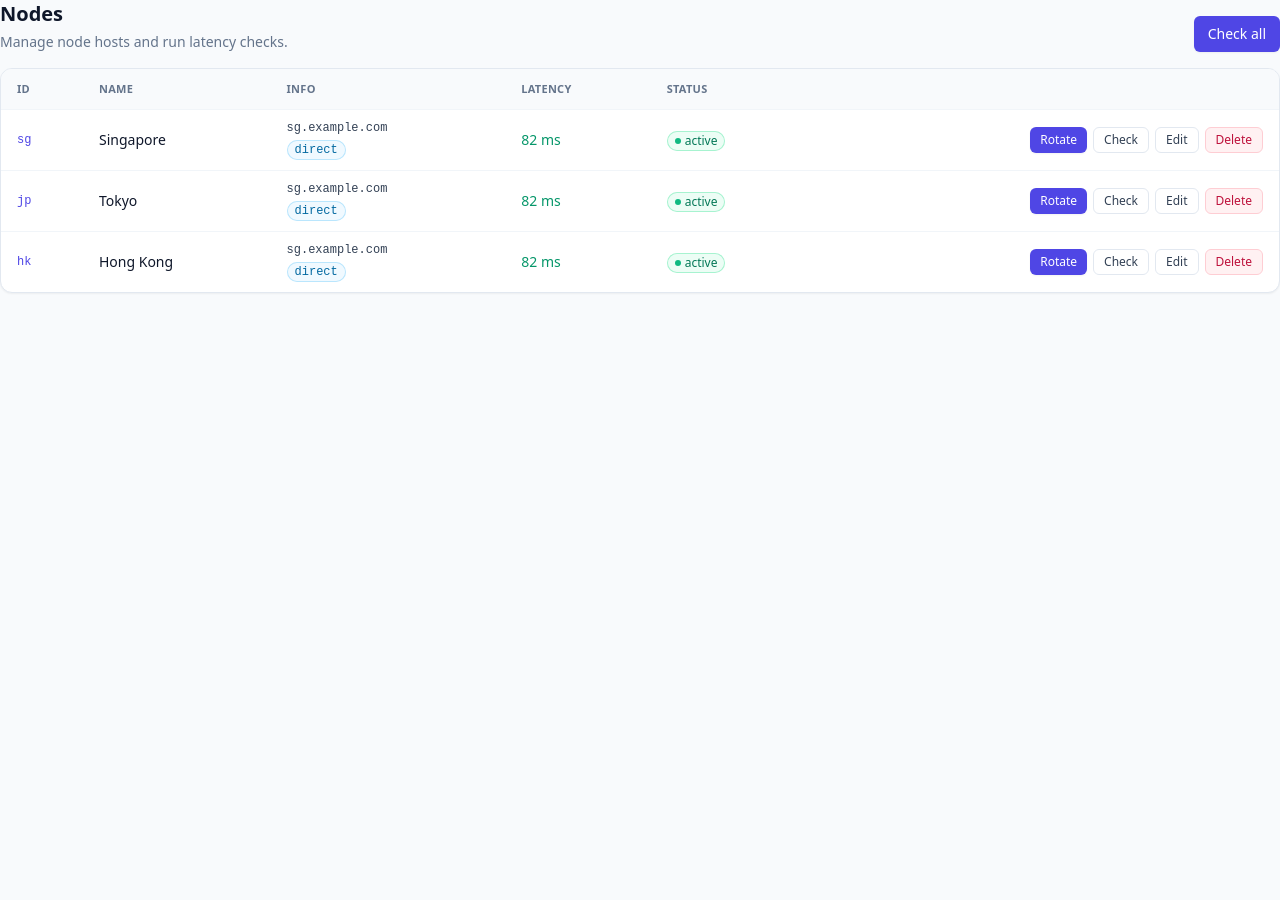
Test: check-all results follow node id, not array position, when a node is deleted mid-batch (M-R2)
Expected: the text "Singapore" is shown, [83,110,271,170]
What coordinates should you click on to do the following:
click the button "Check all"
I would click on:
 (1237, 34)
Its box is [1194,16,1279,52].
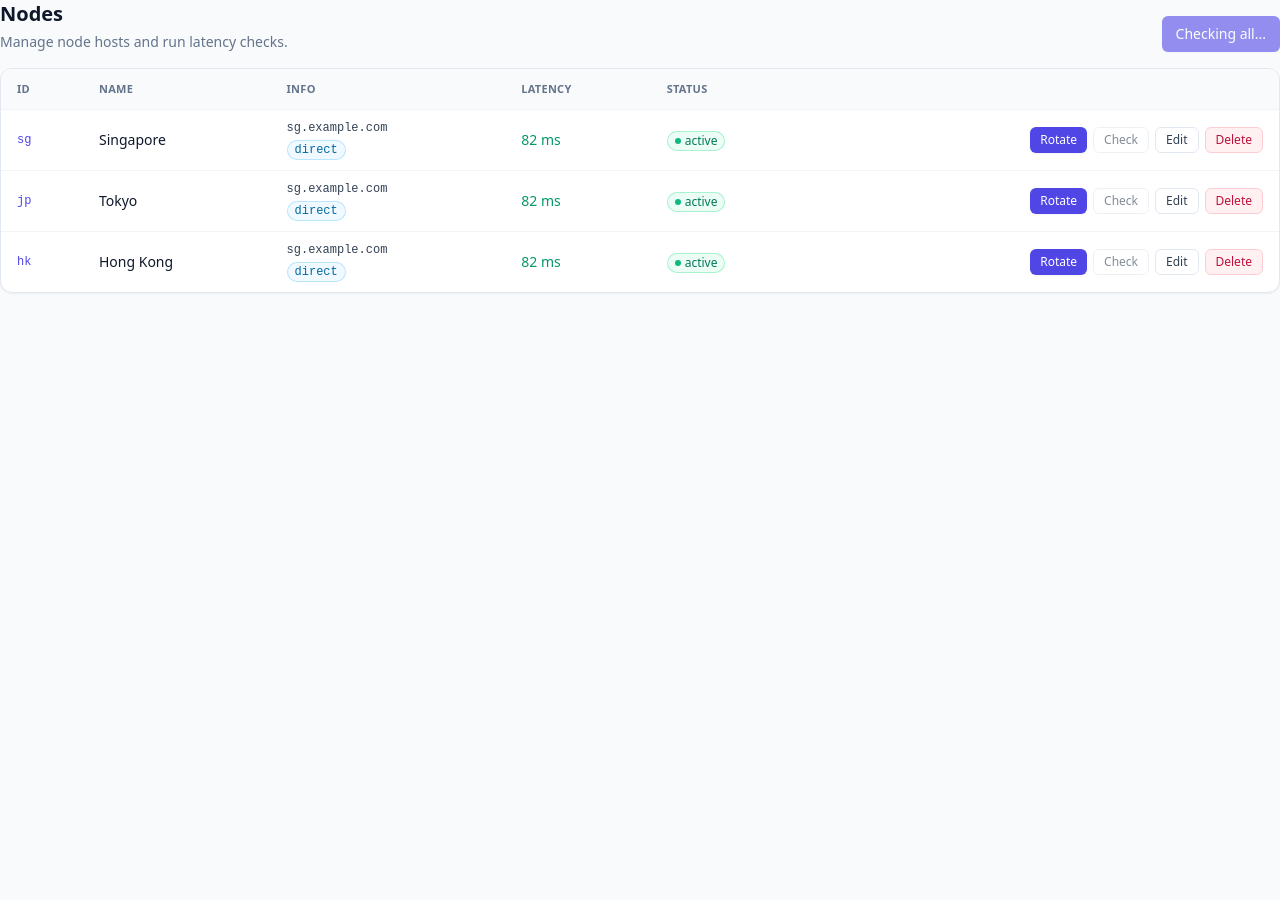
What coordinates should you click on to do the following:
click the button "Delete" in the row of "Singapore"
I would click on:
 (1234, 140)
Its box is [1204,127,1263,153].
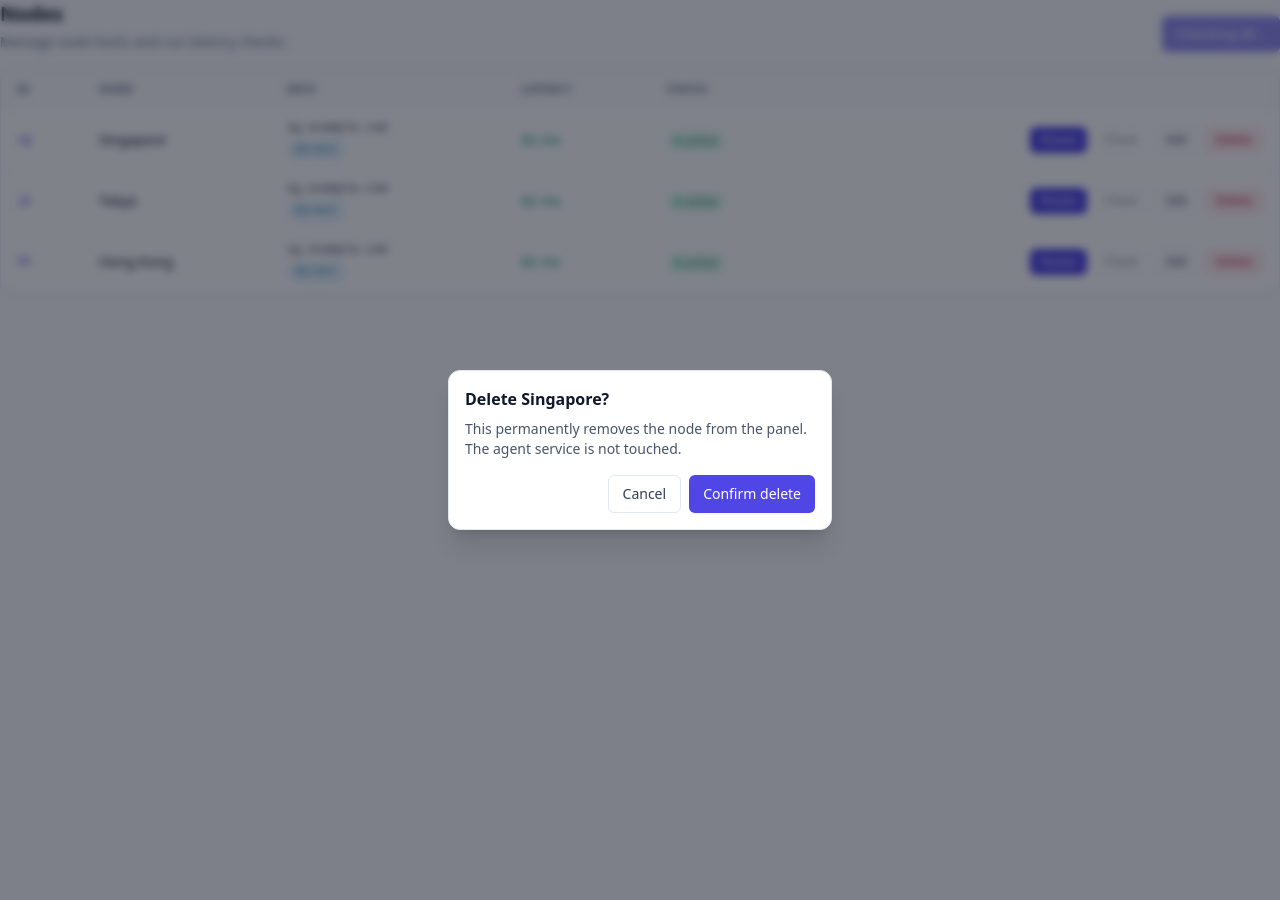
What coordinates should you click on to do the following:
click the button "Confirm delete"
I would click on:
 (752, 494)
Its box is [689,475,815,513].
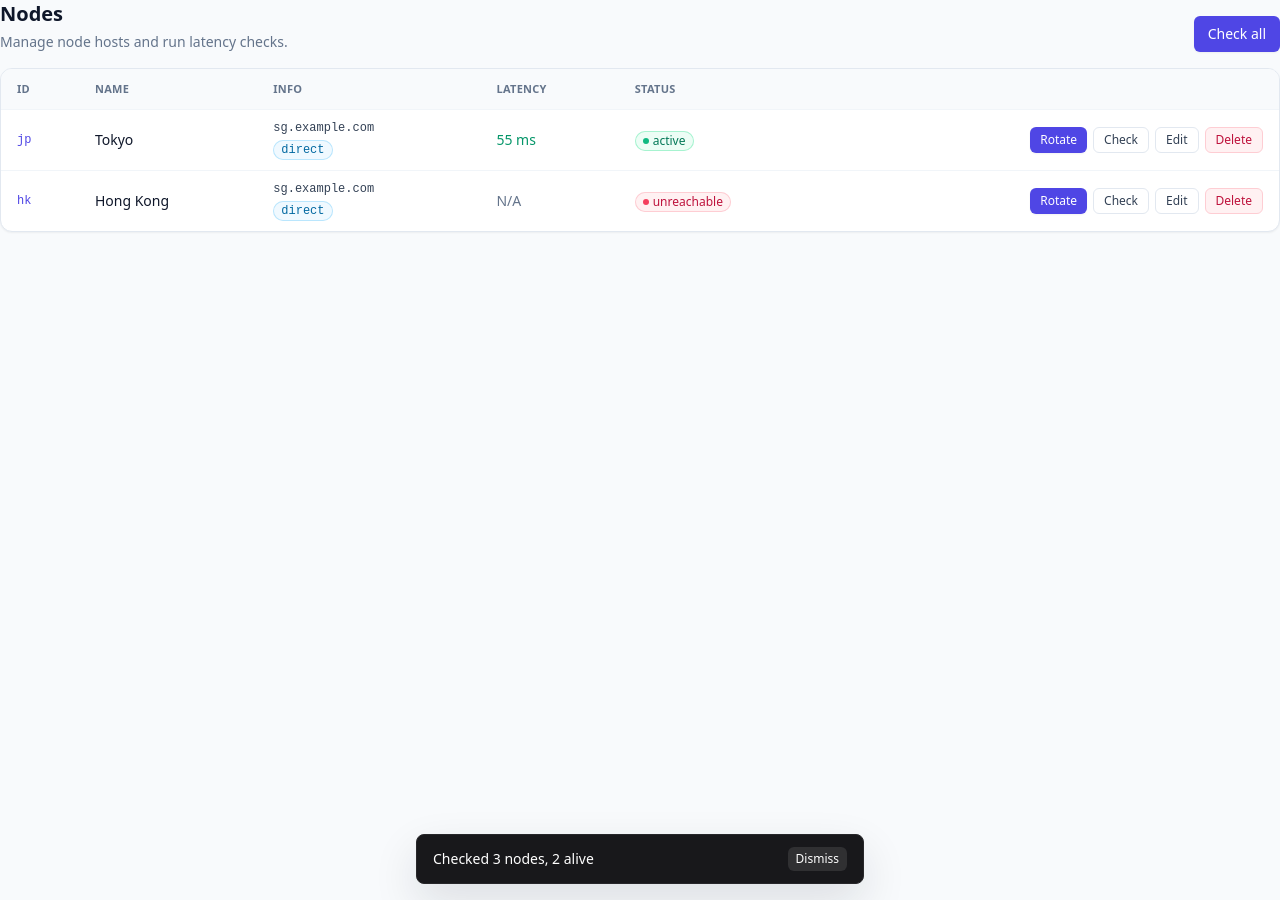
Expected: the text "Singapore" is gone
Expected: the text "Checked 3 nodes, 2 alive" is shown, [433,849,594,869]
Expected: the text "55 ms" is shown, [496,130,536,149]
